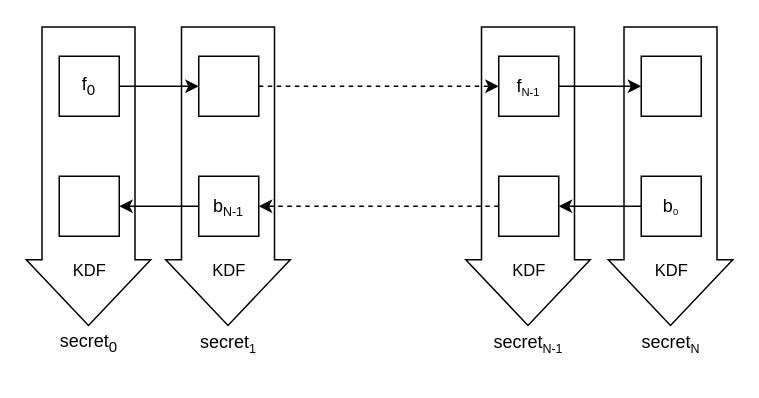
Some shapes in this 759 by 398 pixel diagram are drawn without their labels. Each missing label, with the centre of its shape:
b 1: point 528,205
b N: point 88,205
f 1: point 228,85
f N: point 670,85
